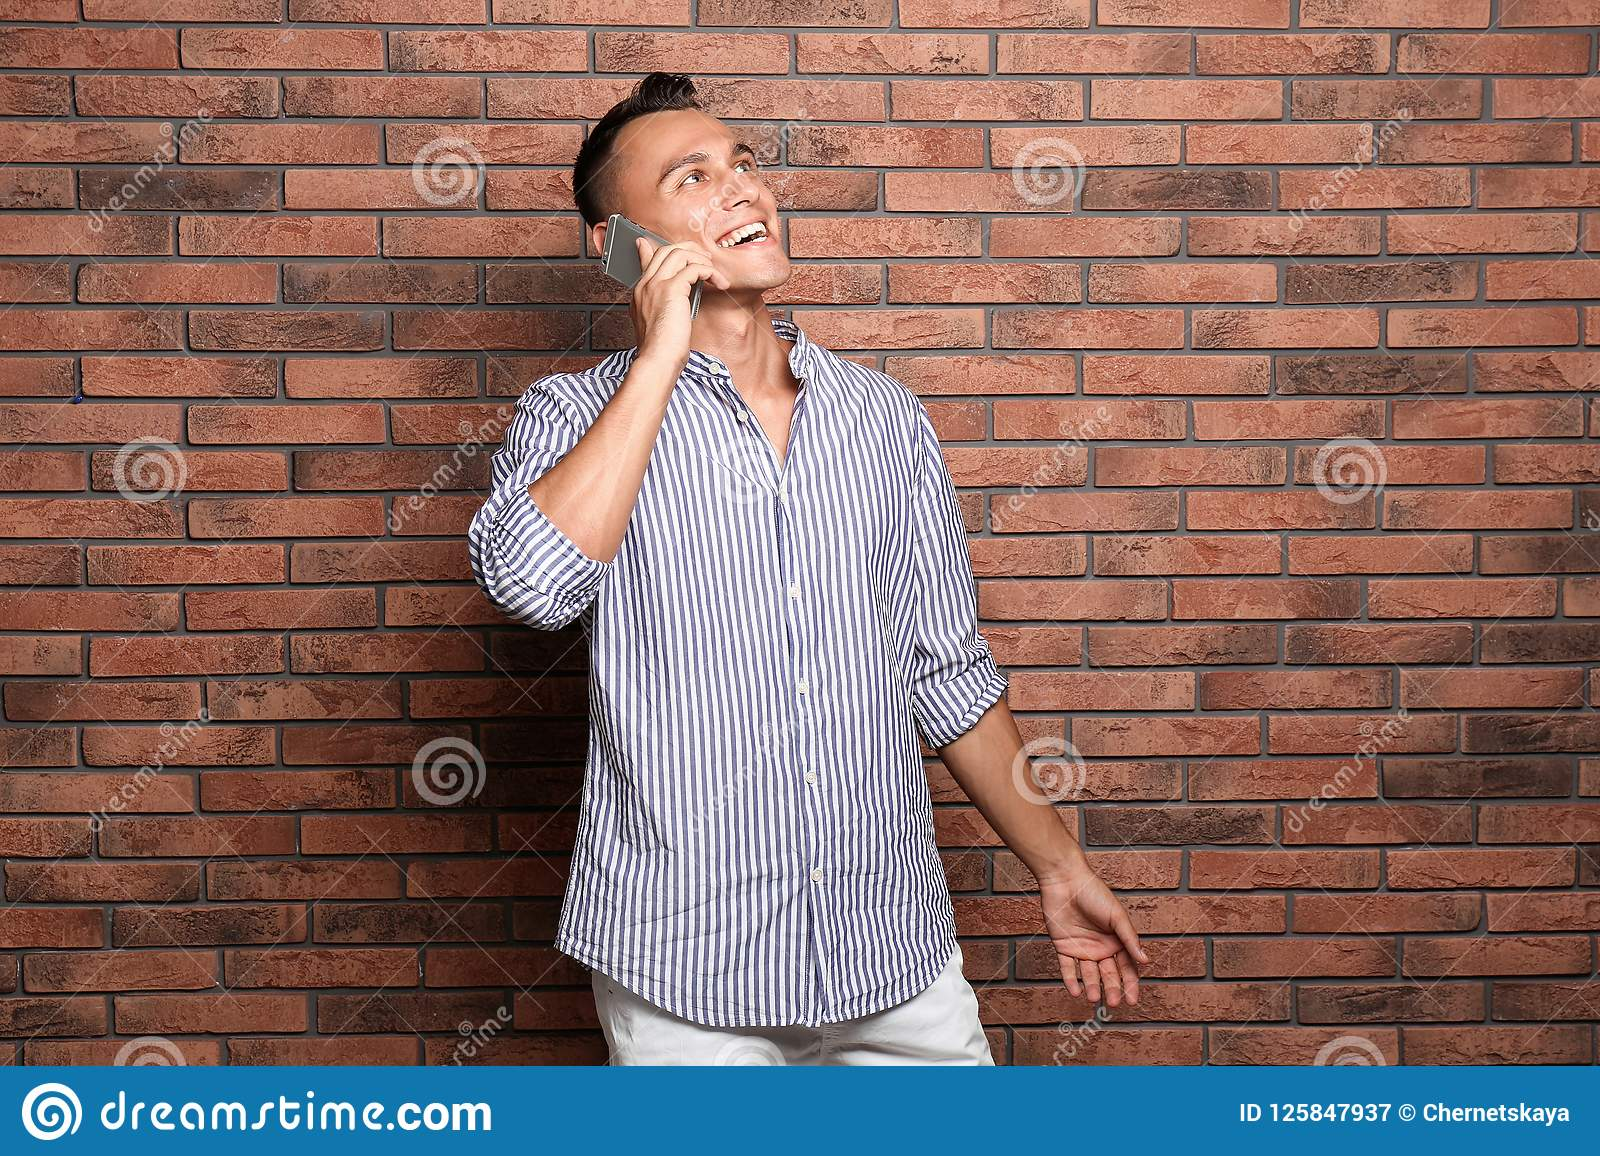phone: (602, 214, 709, 332)
talk: (598, 132, 796, 380)
